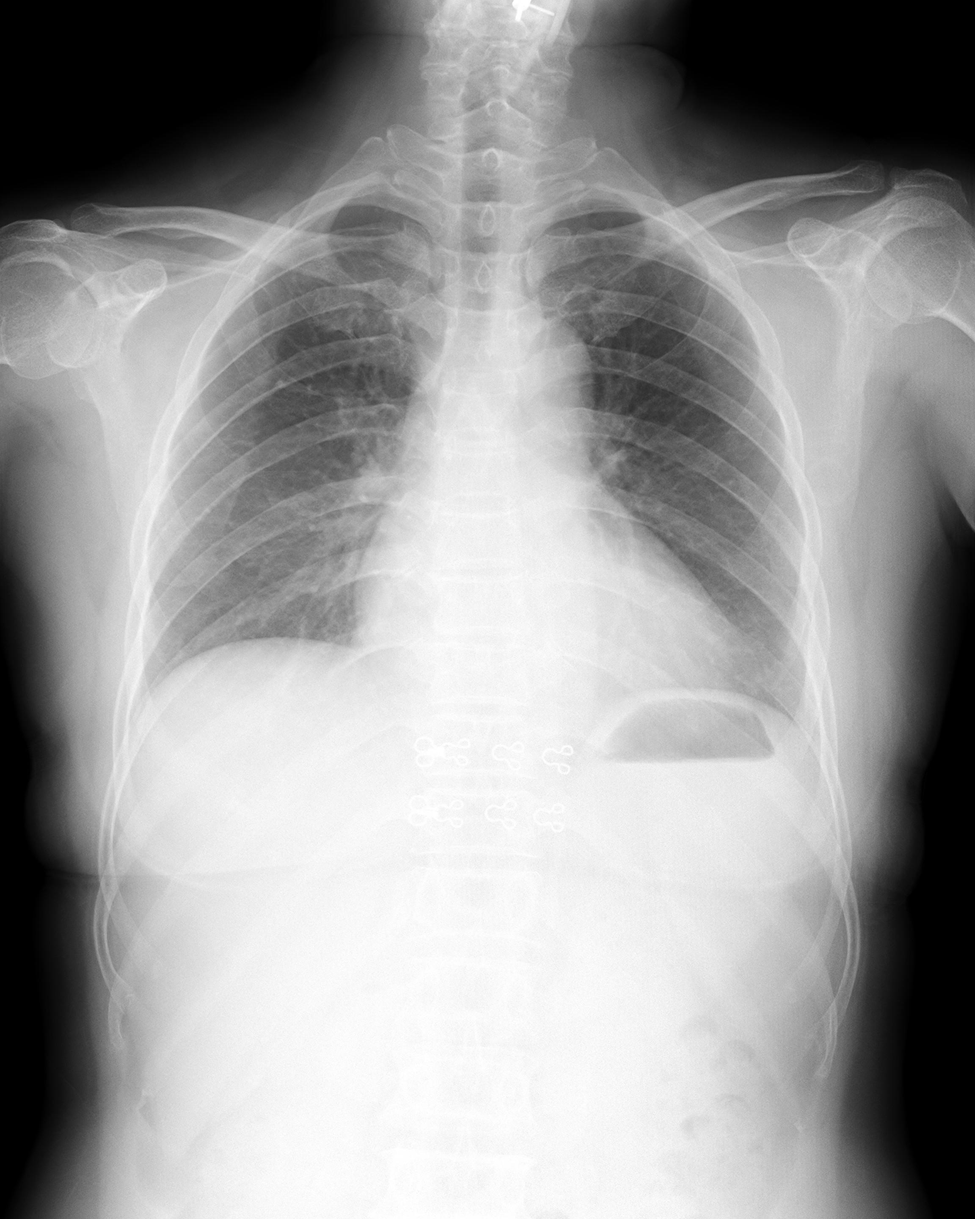Aortic enlargement: (498, 312, 594, 447)
Cardiomegaly: (349, 545, 749, 686)
